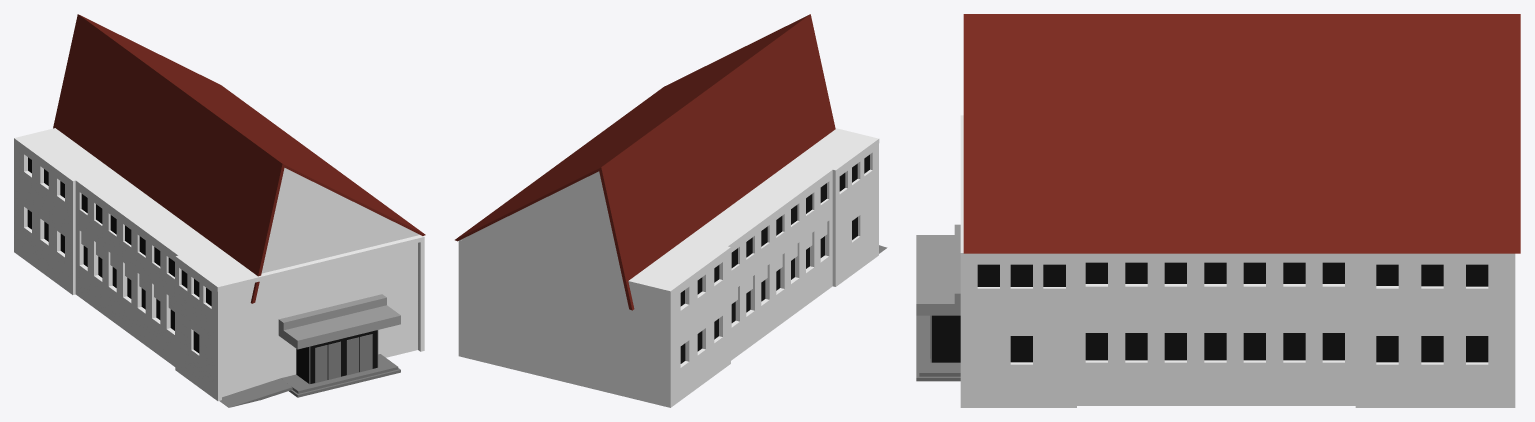
The model's file is haksong.fbx.
The picture shows the model from 3 angles, left to right: view 1: azimuth 30°, elevation 25°; view 2: azimuth 150°, elevation 25°; view 3: azimuth 270°, elevation 25°; orthographic projection. The views are drawn at different scales.
Visible parts, largest first — view 1: Box001, Gengon003, Gengon001, Box005, Box077, Box006, Box009, Box003, Box004, Box079, Box078, Box013 (+4 smaller); view 2: Box001, Gengon003, Gengon001; view 3: Gengon003, Box001, Box005, Box009, Box078, Box003, Box039, Box041, Box043, Box029, Box040, Box042 (+7 smaller).
Part boxes in pixels (box(x1,y1,x2,y2)): Box001: box(14, 128, 420, 398); Gengon003: box(53, 14, 425, 303); Gengon001: box(261, 168, 419, 273); Box005: box(278, 305, 400, 349); Box077: box(215, 235, 424, 291); Box006: box(278, 294, 386, 335); Box009: box(296, 330, 377, 383); Box003: box(281, 354, 398, 393); Box004: box(219, 378, 292, 407); Box079: box(215, 290, 221, 401); Box078: box(418, 241, 424, 351); Box013: box(346, 337, 359, 375); Box001: box(458, 130, 876, 407); Gengon003: box(455, 14, 835, 310); Gengon001: box(461, 171, 628, 305); Gengon003: box(963, 14, 1520, 253); Box001: box(967, 253, 1515, 407); Box005: box(916, 235, 960, 315); Box009: box(932, 315, 960, 362); Box078: box(960, 258, 967, 407); Box003: box(919, 315, 960, 376); Box039: box(1125, 333, 1147, 360); Box041: box(1204, 333, 1226, 360); Box043: box(1283, 333, 1305, 360); Box029: box(1085, 333, 1107, 360); Box040: box(1164, 333, 1186, 360); Box042: box(1243, 333, 1265, 360).
Size of the model in its own units: 250 by 459 by 252.
